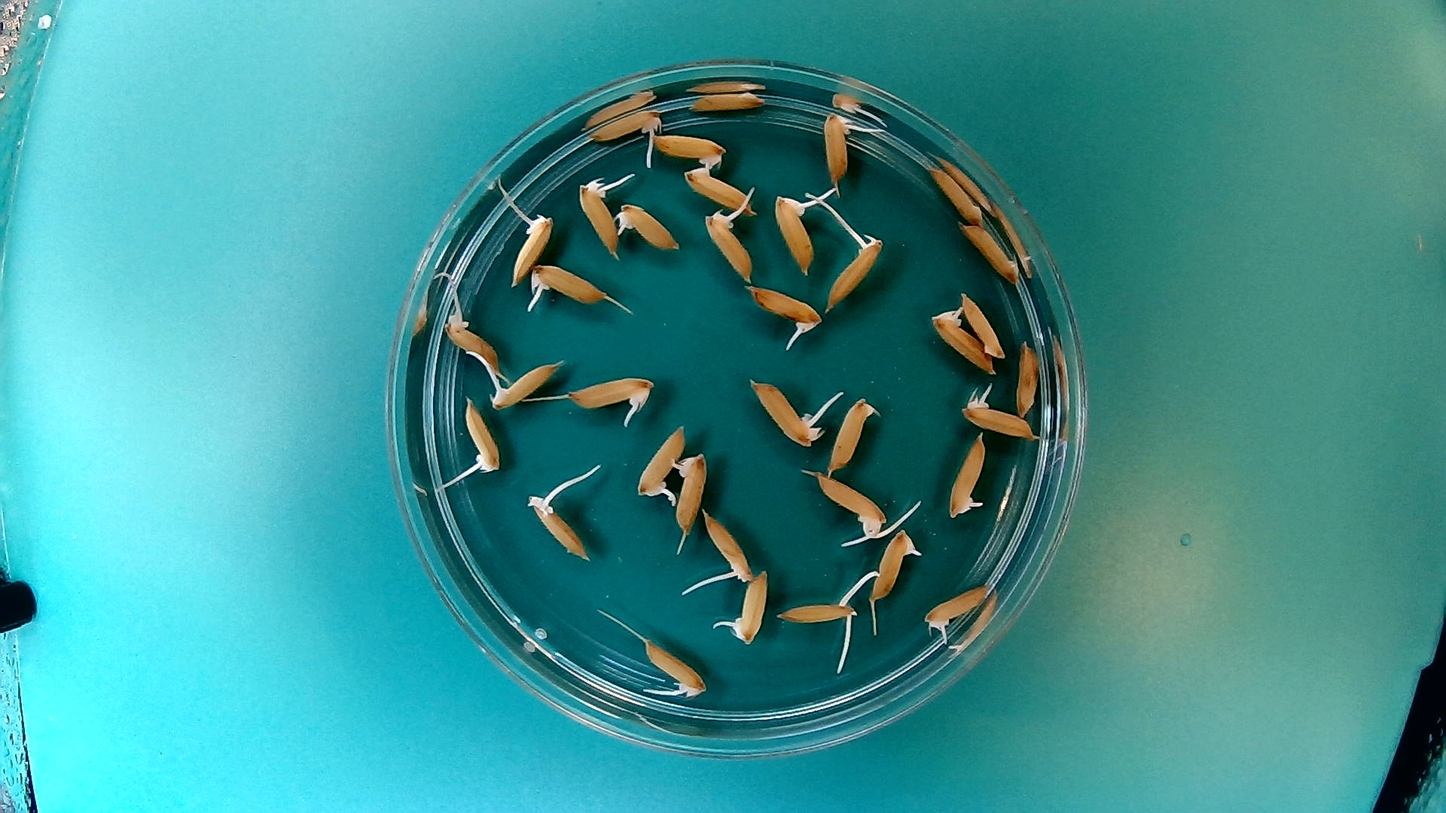no: (826, 393, 881, 472), (958, 220, 1023, 283), (682, 166, 758, 216), (926, 169, 986, 227), (956, 288, 1005, 358), (649, 129, 730, 171), (1015, 336, 1045, 421), (688, 86, 768, 113)
yes: (812, 472, 889, 540), (927, 304, 995, 376), (746, 380, 815, 449), (959, 384, 1038, 440), (700, 206, 755, 284), (634, 422, 687, 502), (824, 235, 880, 310), (640, 638, 709, 698), (702, 507, 756, 583), (526, 496, 587, 563), (720, 567, 770, 647), (945, 430, 988, 519), (869, 528, 922, 600), (575, 176, 621, 258), (529, 262, 609, 309), (921, 580, 991, 632), (441, 307, 500, 368), (614, 199, 679, 253), (746, 283, 819, 330), (493, 357, 561, 407), (771, 194, 812, 276), (508, 215, 554, 288), (460, 396, 501, 477), (563, 376, 652, 413), (670, 449, 708, 534), (586, 104, 664, 144), (819, 109, 851, 182), (776, 598, 856, 626)
